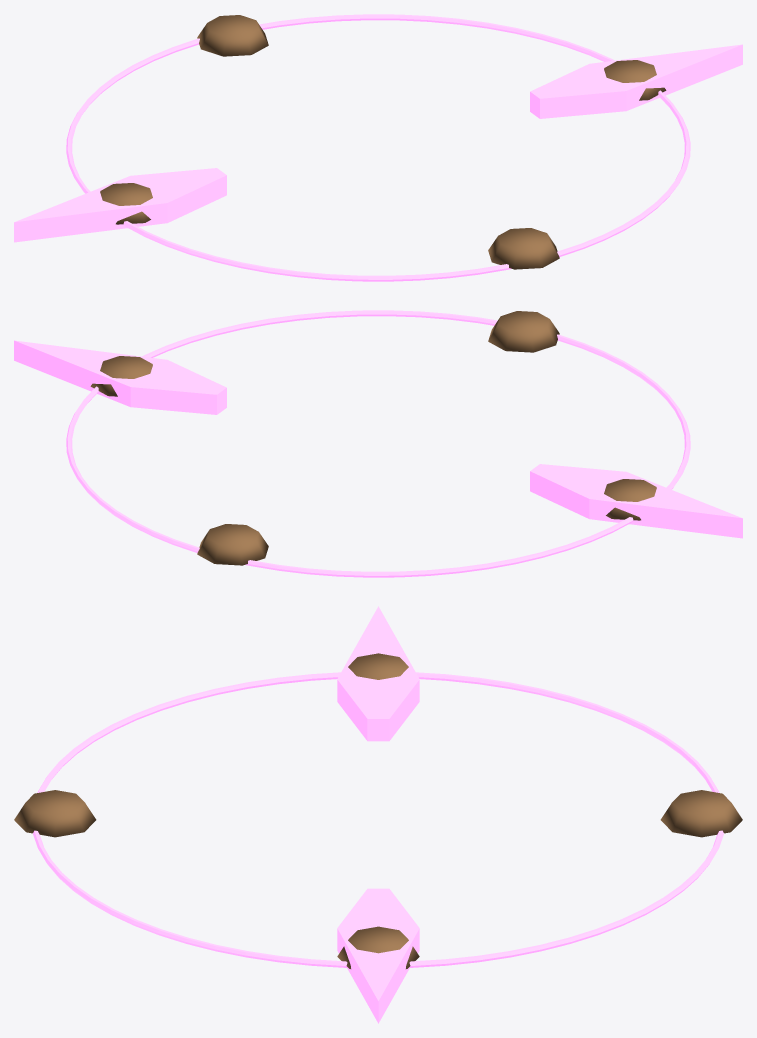
Rendered from PlayerOrbitBlades.fbx.
3 renders of one model, top to bottom at view 1: azimuth 30°, elevation 25°; view 2: azimuth 150°, elevation 25°; view 3: azimuth 270°, elevation 25°, orthographic. The views are drawn at different scales.
Parts seen in each view (by area): view 1: OrbitEnergyTrace, OrbitBlade_1, OrbitBlade_2, OrbitMount_2, OrbitMount_4, OrbitBlade_4, OrbitMount_3, OrbitMount_1, OrbitBlade_3; view 2: OrbitEnergyTrace, OrbitBlade_4, OrbitBlade_3, OrbitBlade_1, OrbitBlade_2, OrbitMount_4, OrbitMount_2, OrbitMount_3, OrbitMount_1; view 3: OrbitEnergyTrace, OrbitBlade_2, OrbitBlade_1, OrbitMount_2, OrbitMount_4, OrbitBlade_3, OrbitBlade_4, OrbitMount_1, OrbitMount_3.
Part boxes in pixels (x1=…): OrbitEnergyTrace: x1=66, y1=14, x2=690, y2=281; OrbitBlade_1: x1=530, y1=44, x2=742, y2=118; OrbitBlade_2: x1=14, y1=171, x2=226, y2=242; OrbitMount_2: x1=197, y1=15, x2=268, y2=56; OrbitMount_4: x1=488, y1=228, x2=559, y2=269; OrbitBlade_4: x1=31, y1=168, x2=226, y2=217; OrbitMount_3: x1=100, y1=183, x2=152, y2=224; OrbitMount_1: x1=604, y1=60, x2=666, y2=100; OrbitBlade_3: x1=530, y1=45, x2=739, y2=95; OrbitEnergyTrace: x1=66, y1=310, x2=690, y2=577; OrbitBlade_4: x1=530, y1=464, x2=742, y2=538; OrbitBlade_3: x1=14, y1=340, x2=225, y2=414; OrbitBlade_1: x1=15, y1=340, x2=226, y2=414; OrbitBlade_2: x1=532, y1=464, x2=742, y2=518; OrbitMount_4: x1=488, y1=311, x2=559, y2=352; OrbitMount_2: x1=197, y1=524, x2=268, y2=565; OrbitMount_3: x1=604, y1=479, x2=656, y2=520; OrbitMount_1: x1=90, y1=356, x2=152, y2=396; OrbitEnergyTrace: x1=33, y1=672, x2=723, y2=967; OrbitBlade_2: x1=337, y1=606, x2=419, y2=741; OrbitBlade_1: x1=337, y1=888, x2=418, y2=1023; OrbitMount_2: x1=660, y1=790, x2=742, y2=837; OrbitMount_4: x1=14, y1=790, x2=96, y2=837; OrbitBlade_3: x1=339, y1=888, x2=419, y2=1022; OrbitBlade_4: x1=342, y1=607, x2=419, y2=741; OrbitMount_1: x1=337, y1=926, x2=419, y2=968; OrbitMount_3: x1=348, y1=653, x2=408, y2=679.
Bounding box in the file's own units: 3.4 × 0.095 × 2.65.
